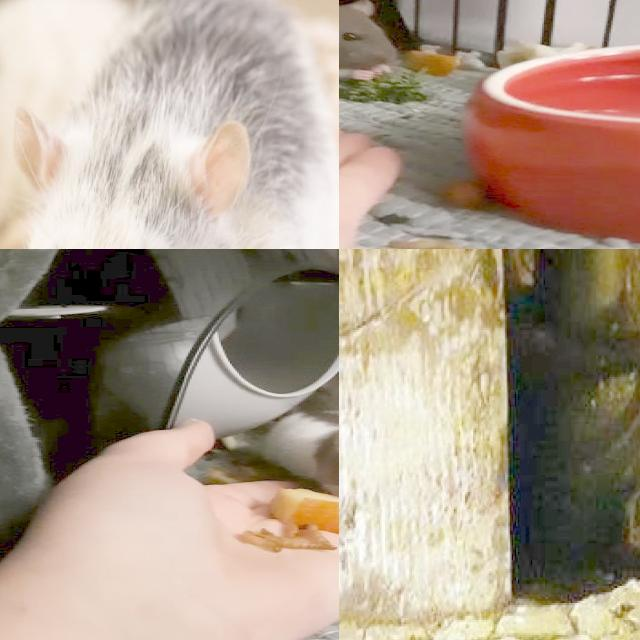rat: (11, 0, 339, 249), (230, 410, 339, 525), (339, 0, 403, 86), (289, 353, 339, 416)
